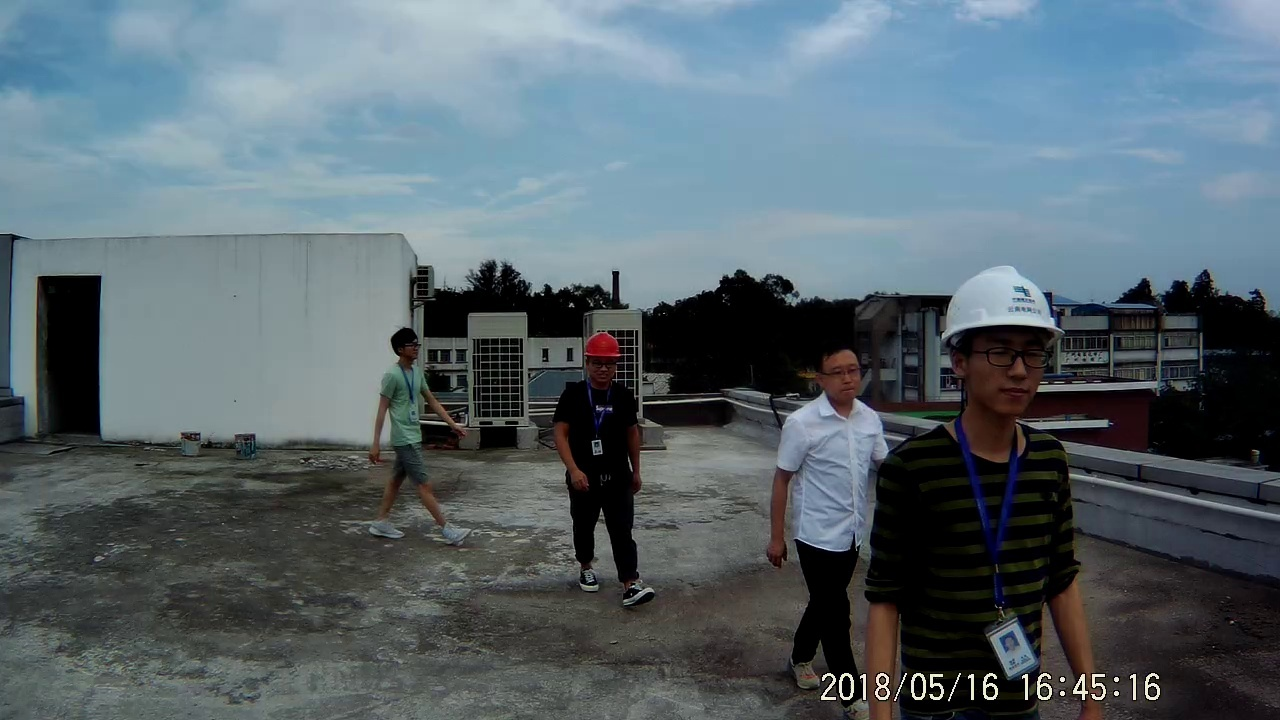none: (810, 338, 864, 406), (386, 326, 425, 367)
red: (582, 330, 624, 386)
white: (934, 260, 1065, 430)
